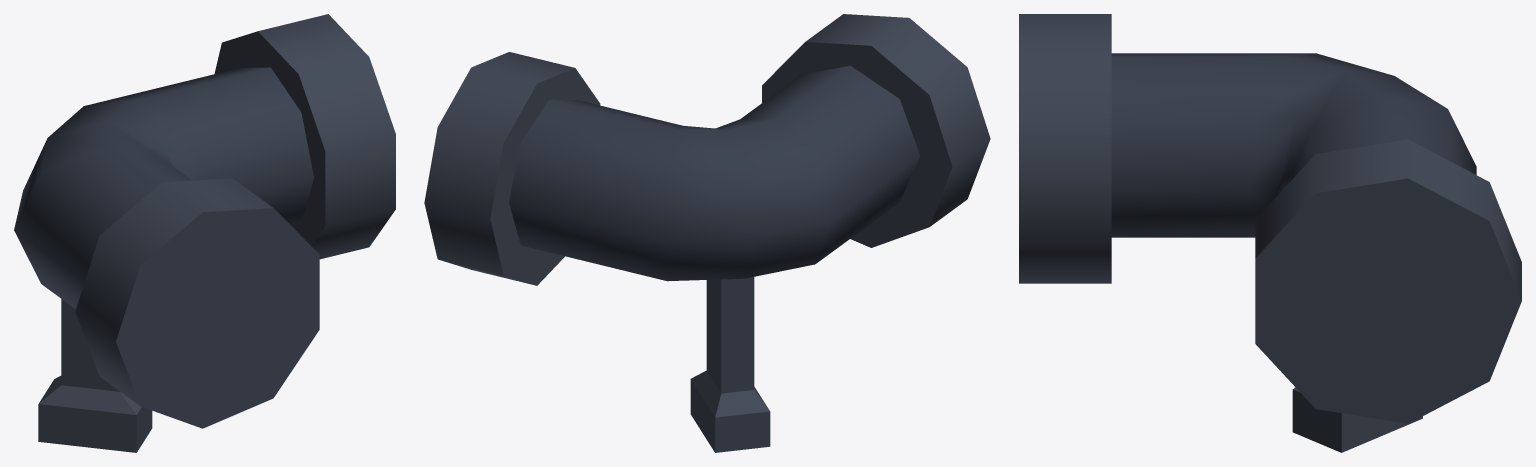
The model's file is Pipe_1_F_3.fbx.
The picture shows the model from 3 angles, left to right: view 1: azimuth 30°, elevation 25°; view 2: azimuth 150°, elevation 25°; view 3: azimuth 270°, elevation 25°; orthographic projection. The views are drawn at different scales.
Parts seen in each view (by area): view 1: Pipe_1_F_3; view 2: Pipe_1_F_3; view 3: Pipe_1_F_3.
Part boxes in pixels (<box>): Pipe_1_F_3: <box>14,14,395,452</box>; Pipe_1_F_3: <box>424,14,990,452</box>; Pipe_1_F_3: <box>1019,14,1521,452</box>.
Bounding box in the file's own units: 55.93 × 47.63 × 55.93.
